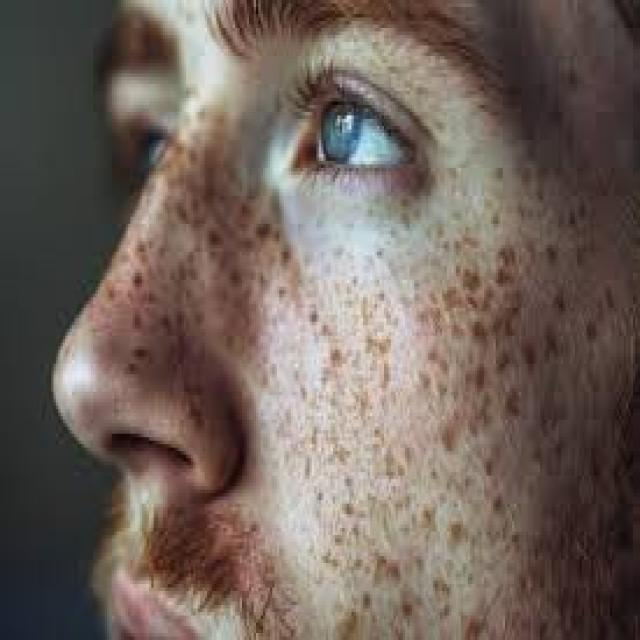Acne: (360, 266, 575, 638), (179, 142, 266, 372)
